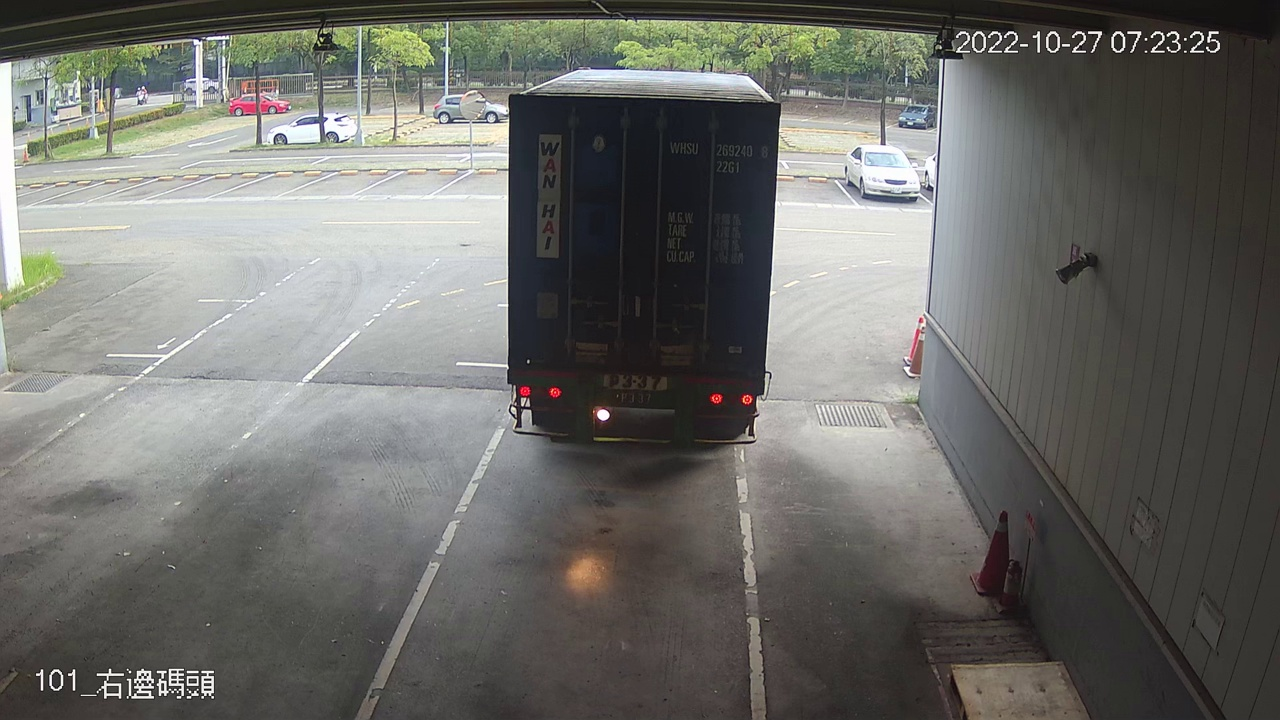container: (668, 133, 772, 179)
